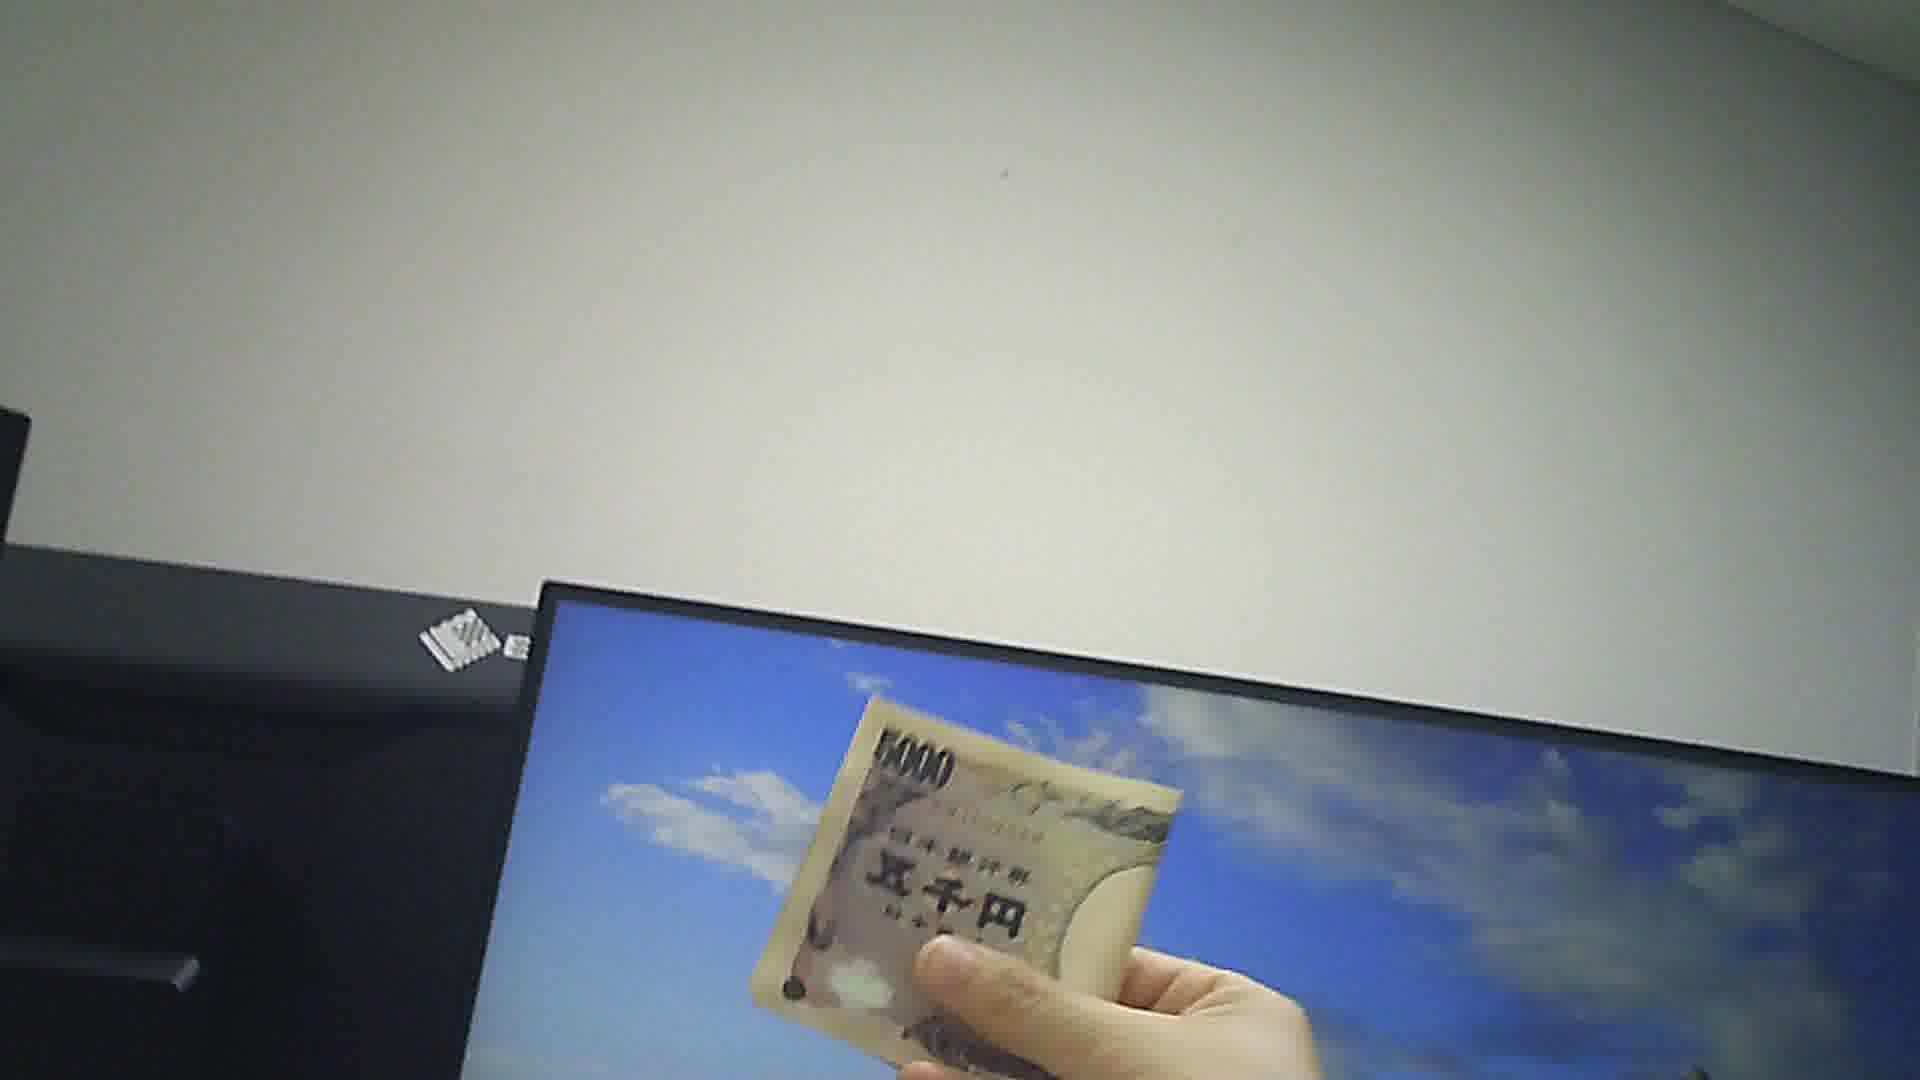5,000 Yen: (756, 694, 1188, 1064)
